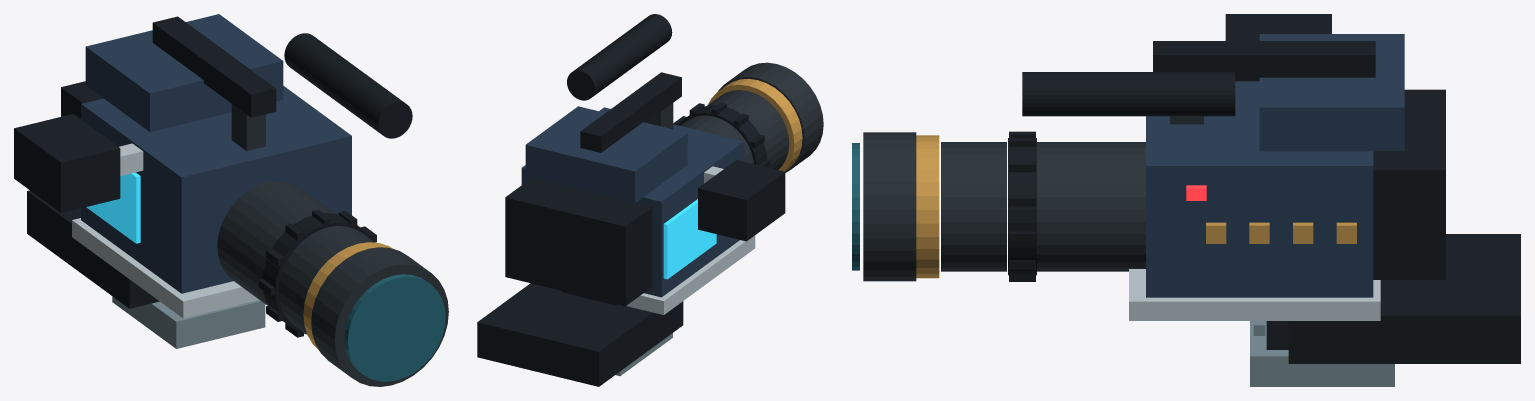
Rendered from bass.glb.
3 renders of one model, left to right at view 1: azimuth 30°, elevation 25°; view 2: azimuth 150°, elevation 25°; view 3: azimuth 270°, elevation 25°, orthographic. The views are drawn at different scales.
Visible parts, largest first — view 1: bass_audio_control_0, bass_grip; view 2: bass_audio_control_0, bass_grip; view 3: bass_audio_control_0, bass_grip.
Boxes of the visible parts, left/top/right/bottom form: bass_audio_control_0: left=14, top=14, right=448, bottom=386; bass_grip: left=112, top=296, right=265, bottom=348; bass_audio_control_0: left=477, top=14, right=823, bottom=386; bass_grip: left=562, top=291, right=672, bottom=375; bass_audio_control_0: left=852, top=14, right=1520, bottom=363; bass_grip: left=1250, top=321, right=1394, bottom=386.
Size of the model in its own units: 0.353 by 0.3755 by 0.691.
